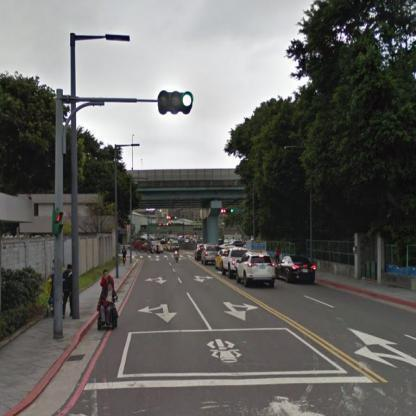Green Light: (159, 88, 195, 110)
